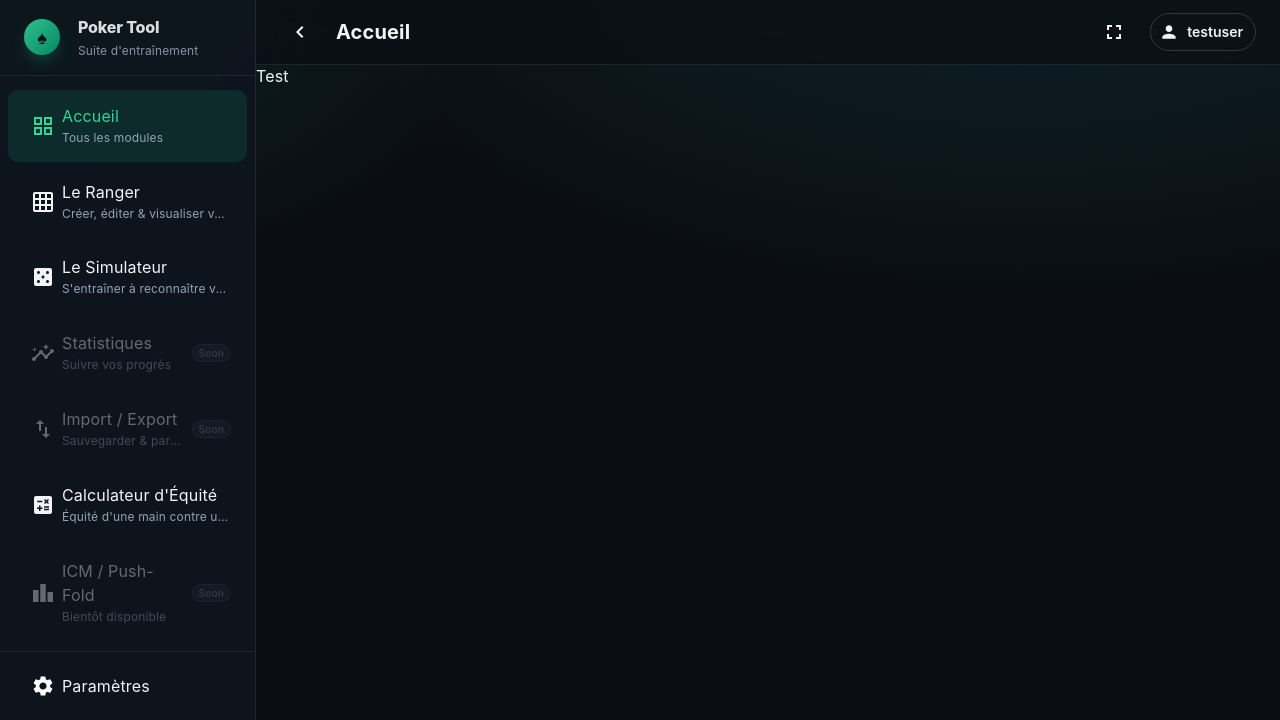
Test: AppShell › shows the username button and a Déconnexion menu item when authenticated
Expected: the text "Connexion" is not shown
Note: Open the user menu and verify the logout item is present.
Click the button "testuser": (1203, 32) [1150,13,1256,51]
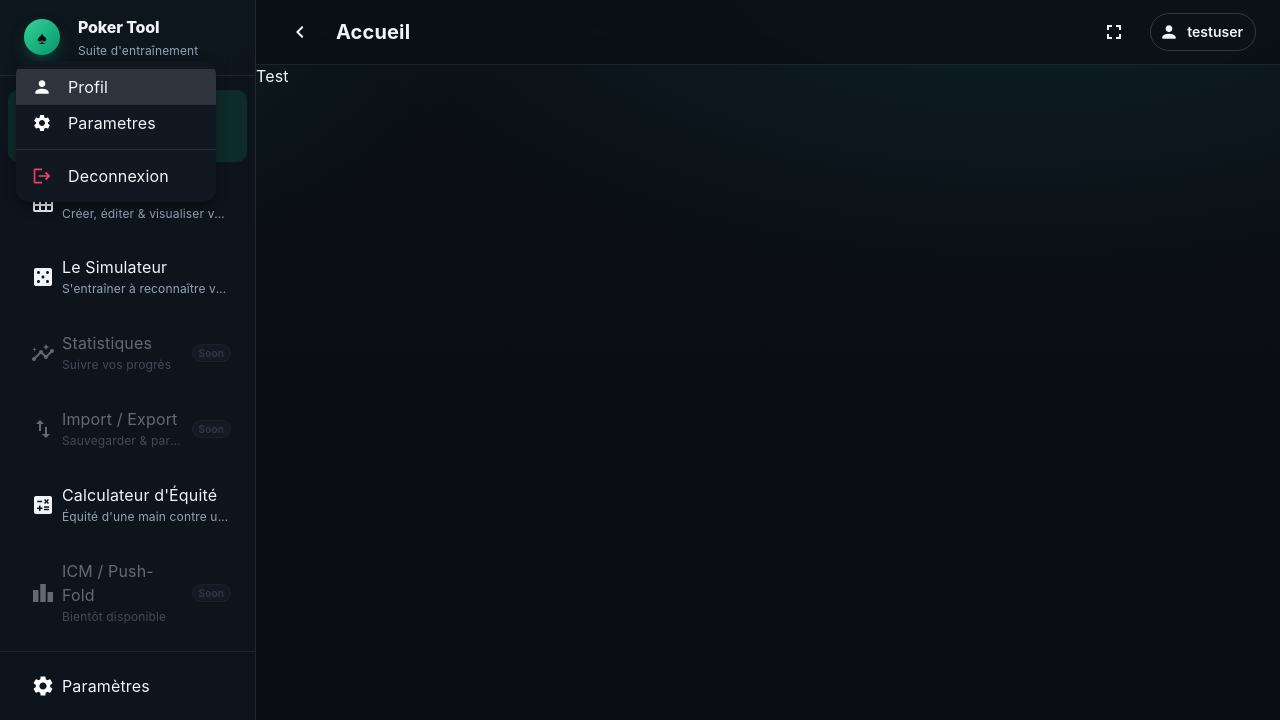
Result: the text "Deconnexion" is shown at [68,166,169,186]
